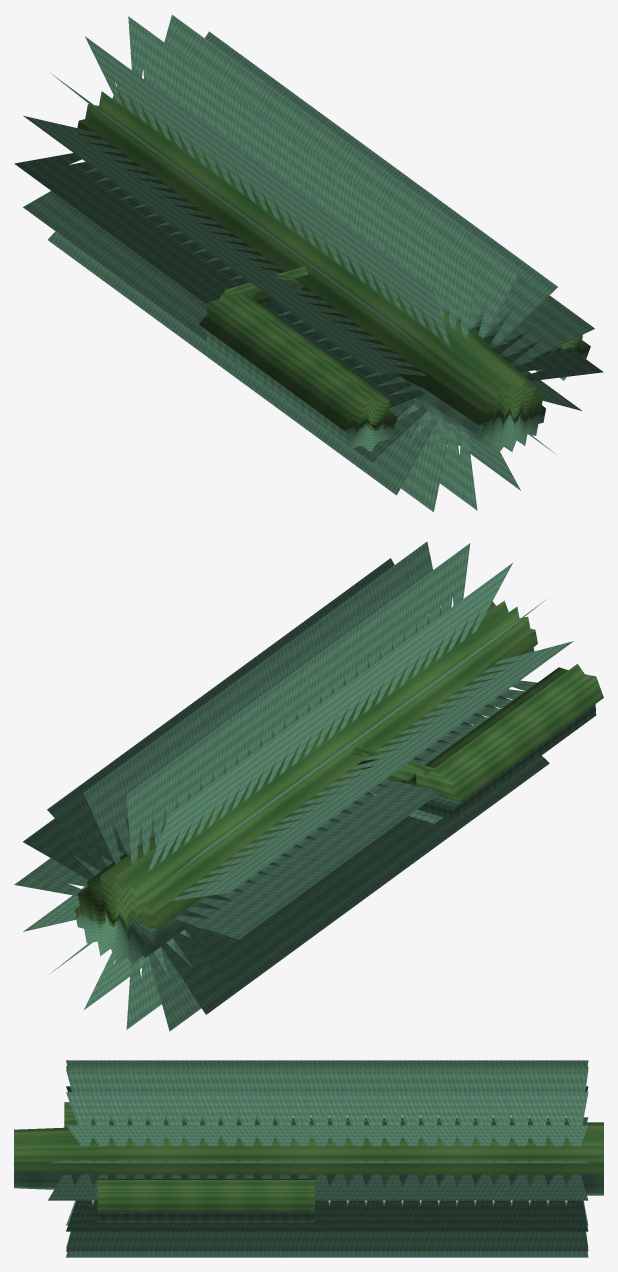
File: veg_succulent_aloe_01.obj
The picture shows the model from 3 angles, top to bottom: view 1: azimuth 30°, elevation 25°; view 2: azimuth 150°, elevation 25°; view 3: azimuth 270°, elevation 25°; orthographic projection. The views are drawn at different scales.
Visible parts, largest first — view 1: veg_succulent_aloe_01; view 2: veg_succulent_aloe_01; view 3: veg_succulent_aloe_01.
Boxes of the visible parts, x1,y1,x2,y2 form: veg_succulent_aloe_01: [14, 14, 603, 512]; veg_succulent_aloe_01: [14, 541, 603, 1031]; veg_succulent_aloe_01: [14, 1060, 603, 1257].
Bounding box in the file's own units: 0.3154 × 0.2678 × 0.8.
1 material, 1 textured.
